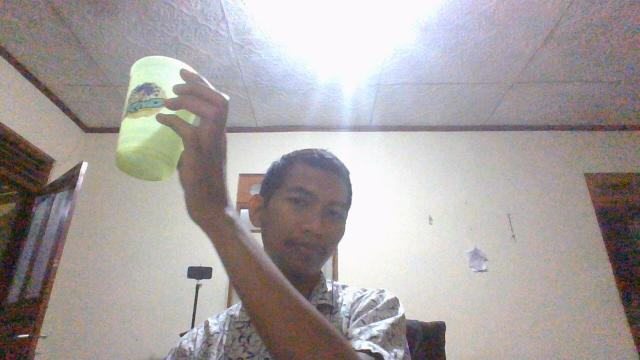botol-hijau: (113, 53, 227, 183)
